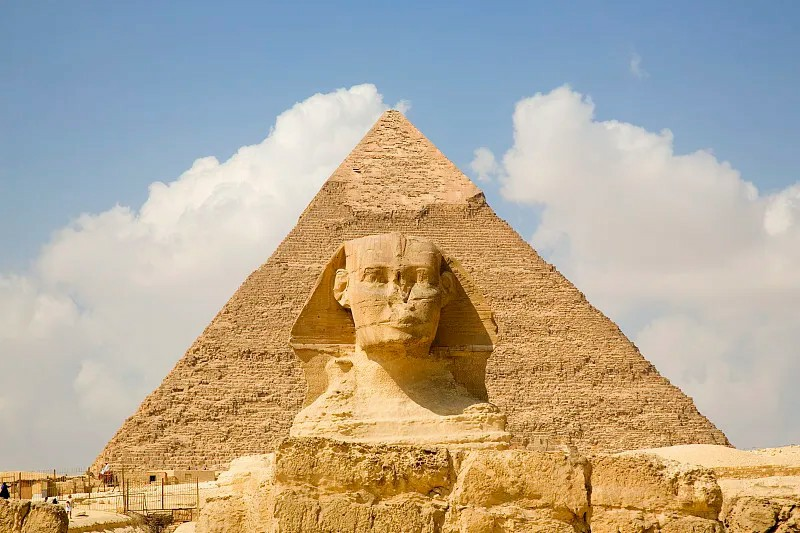Pyramid: (88, 110, 730, 472)
